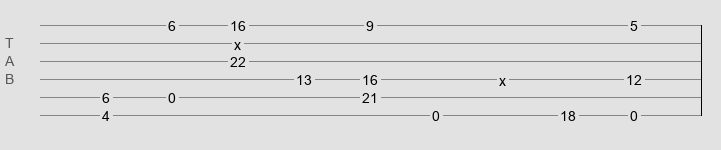0: (168, 90, 176, 100), (432, 108, 440, 118), (630, 108, 638, 118)
12: (626, 72, 642, 82)
13: (296, 72, 312, 82)
16: (230, 18, 246, 28), (362, 72, 378, 82)
18: (560, 108, 576, 118)
21: (362, 90, 378, 100)
22: (230, 54, 246, 64)
4: (102, 108, 110, 118)
5: (630, 18, 638, 28)
6: (102, 90, 110, 100), (168, 18, 176, 28)
9: (366, 18, 374, 28)
x: (234, 37, 241, 45), (499, 73, 506, 81)
